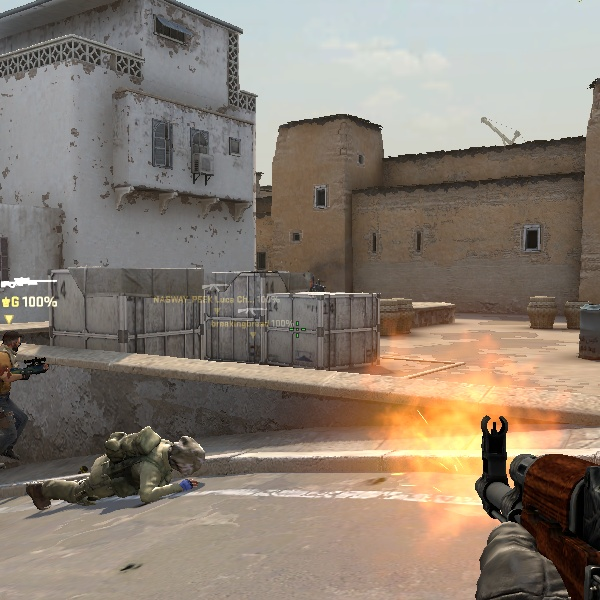ct_body: (310, 274, 324, 291)
ct_head: (310, 273, 315, 290)
t_body: (1, 329, 31, 459)
t_head: (1, 330, 21, 354)
